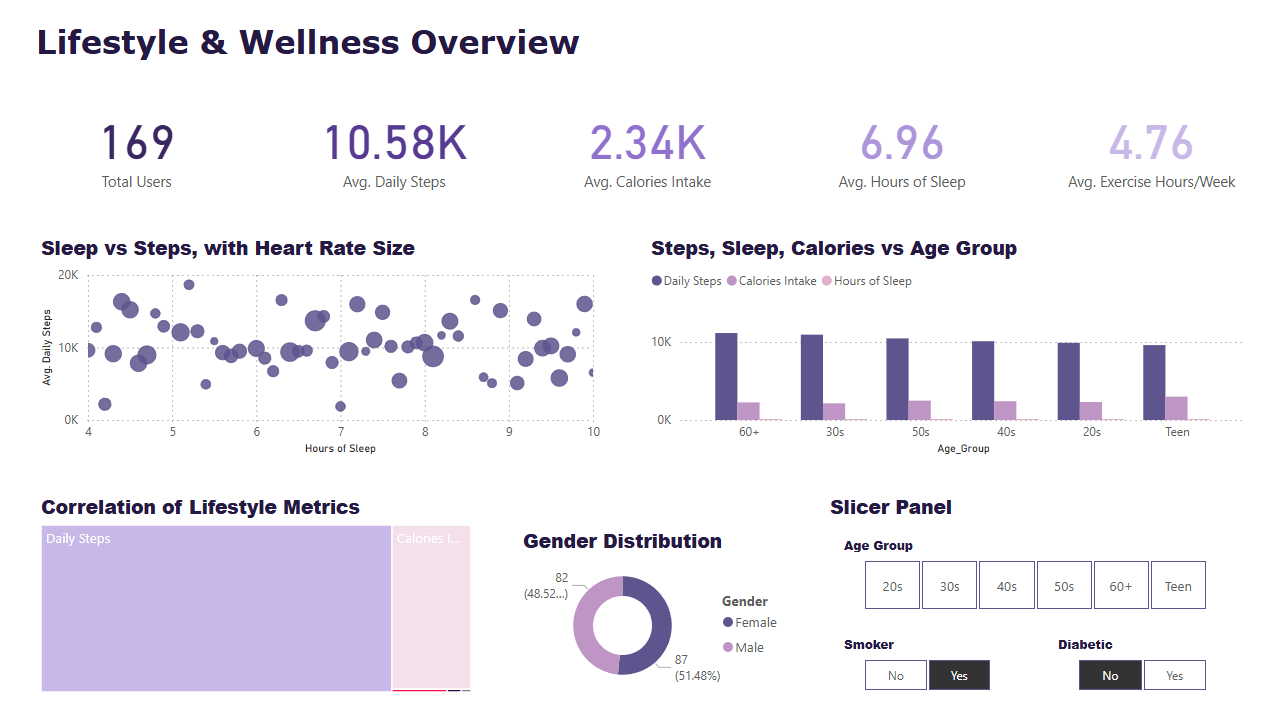

The page's visual inventory and layout, read from the dashboard file:
{"tool":"powerbi","page":{"name":"Page 1","canvas":[1280,720],"ordinal":0},"visuals":[{"type":"card","fields":{"Values":["CountNonNull(health_activity_data.ID)"]},"box":[32.3,88.5,210.4,114.6],"z":0},{"type":"card","fields":{"Values":["Avg(health_activity_data.Exercise_Hours_per_Week)"]},"box":[1047.9,88.5,209.4,114.6],"z":1000},{"type":"card","fields":{"Values":["Avg(health_activity_data.Hours_of_Sleep)"]},"box":[797.9,88.5,210.4,114.6],"z":2000},{"type":"card","fields":{"Values":["Avg(health_activity_data.Calories_Intake)"]},"box":[543.8,88.5,209.4,114.6],"z":3000},{"type":"card","fields":{"Values":["Avg(health_activity_data.Daily_Steps)"]},"box":[289.6,88.5,210.4,114.6],"z":4000},{"type":"donutChart","title":"Gender Distribution","fields":{"Y":["CountNonNull(health_activity_data.ID)"],"Category":["health_activity_data.Gender"]},"box":[513.5,521.9,285.4,180.2],"z":5000},{"type":"clusteredColumnChart","title":"Steps, Sleep, Calories vs Age Group","fields":{"Category":["health_activity_data.Age_Group"],"Y":["Avg(health_activity_data.Daily_Steps)","Avg(health_activity_data.Calories_Intake)","Avg(health_activity_data.Hours_of_Sleep)"]},"box":[641.7,229.2,615.6,234.4],"z":6000},{"type":"scatterChart","title":"Sleep vs Steps, with Heart Rate Size","fields":{"X":["health_activity_data.Hours_of_Sleep"],"Y":["Avg(health_activity_data.Daily_Steps)"],"Size":["Sum(health_activity_data.Heart_Rate)"]},"box":[32.3,229.2,579.2,234.4],"z":7000},{"type":"treemap","title":"Correlation of Lifestyle Metrics","fields":{"Values":["Avg(health_activity_data.Daily_Steps)","Avg(health_activity_data.Calories_Intake)","Avg(health_activity_data.Exercise_Hours_per_Week)","Avg(health_activity_data.Hours_of_Sleep)","Avg(health_activity_data.BMI)"]},"box":[32.3,487.5,450,214.6],"z":8000},{"type":"slicer","title":"Age Group","fields":{"Values":["health_activity_data.Age_Group"]},"box":[835.4,532.3,401,88.5],"z":9000},{"type":"slicer","title":"Smoker","fields":{"Values":["health_activity_data.Smoker"]},"box":[835.4,631.2,184.4,70.8],"z":10000},{"type":"slicer","title":"Diabetic","fields":{"Values":["health_activity_data.Diabetic"]},"box":[1049,631.2,187.5,70.8],"z":11000},{"type":"textbox","box":[826,487.5,153.1,38.5],"z":12000},{"type":"textbox","box":[32.3,16.7,596.9,58.3],"z":13000}]}

Visuals, with their boxes in screenshot pixels (x1, y1, x2, y2), scaled from the page's 1280x720 canvas onto the 1277x719 screenshot:
card - CountNonNull(health_activity_data.ID): 32 88 242 203
card - Avg(health_activity_data.Exercise_Hours_per_Week): 1045 88 1254 203
card - Avg(health_activity_data.Hours_of_Sleep): 796 88 1006 203
card - Avg(health_activity_data.Calories_Intake): 543 88 751 203
card - Avg(health_activity_data.Daily_Steps): 289 88 499 203
"Gender Distribution" donutChart: 512 521 797 701
"Steps, Sleep, Calories vs Age Group" clusteredColumnChart: 640 229 1254 463
"Sleep vs Steps, with Heart Rate Size" scatterChart: 32 229 610 463
"Correlation of Lifestyle Metrics" treemap: 32 487 481 701
"Age Group" slicer: 833 532 1234 620
"Smoker" slicer: 833 630 1017 701
"Diabetic" slicer: 1047 630 1234 701
textbox: 824 487 977 525
textbox: 32 17 628 75
